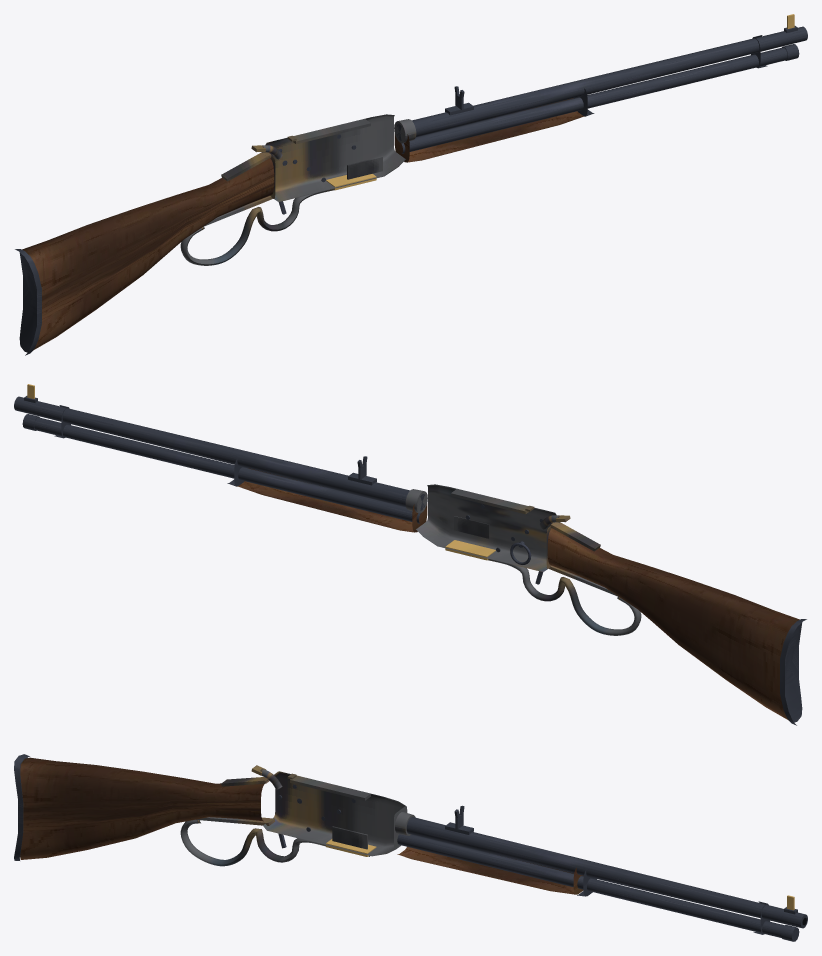
Rendered from rifle.glb.
3 renders of one model, top to bottom at view 1: azimuth 30°, elevation 25°; view 2: azimuth 150°, elevation 25°; view 3: azimuth 330°, elevation 25°, orthographic.
Parts seen in each view (by area): view 1: rifle; view 2: rifle; view 3: rifle.
Part boxes in pixels (x1,y1,x2,y2): rifle: [15, 14, 807, 355]; rifle: [14, 384, 806, 725]; rifle: [14, 754, 807, 941].
Size of the model in its own units: 0.9873 by 0.1898 by 0.0419.
Materials: 1 (1 with a texture image).
